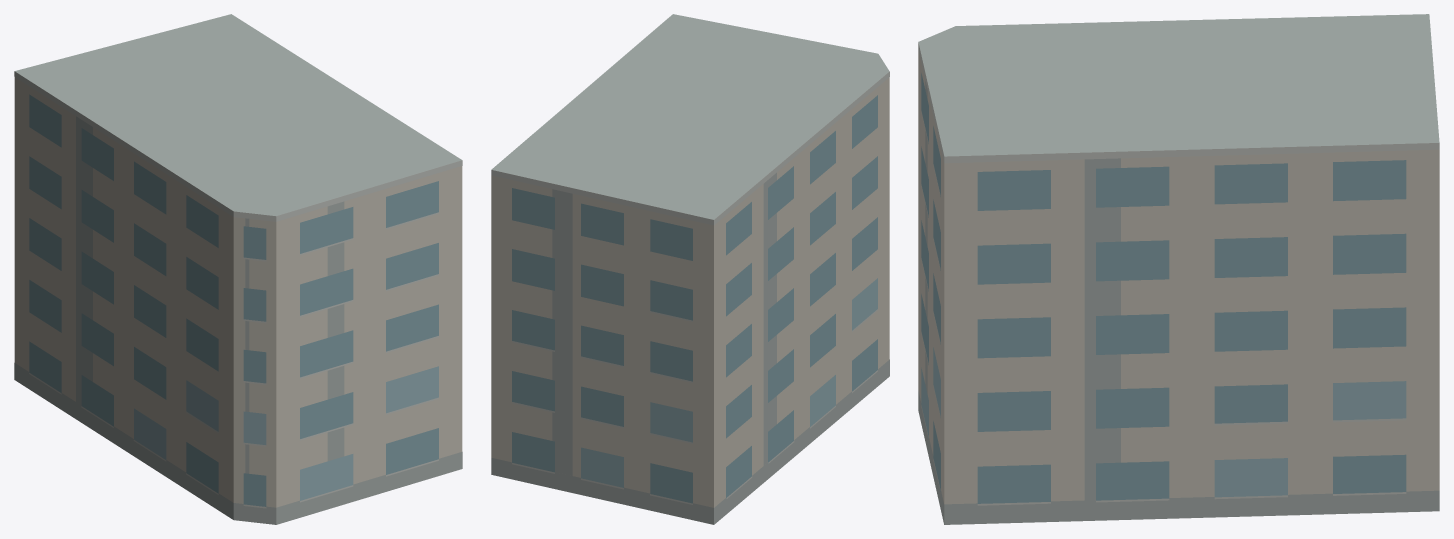
Rendered from survey-upis-32987446.glb.
3 views of the same model, side by side, from view 1: azimuth 30°, elevation 25°; view 2: azimuth 150°, elevation 25°; view 3: azimuth 270°, elevation 25° (orthographic). The views are drawn at different scales.
Parts seen in each view (by area): view 1: survey-upis-32987446.tmp; view 2: survey-upis-32987446.tmp; view 3: survey-upis-32987446.tmp.
Boxes of the visible parts, x1,y1,x2,y2 form: survey-upis-32987446.tmp: [14, 14, 462, 524]; survey-upis-32987446.tmp: [491, 14, 889, 524]; survey-upis-32987446.tmp: [918, 14, 1439, 524].
Size of the model in its own units: 11.05 by 13.3 by 17.07.
